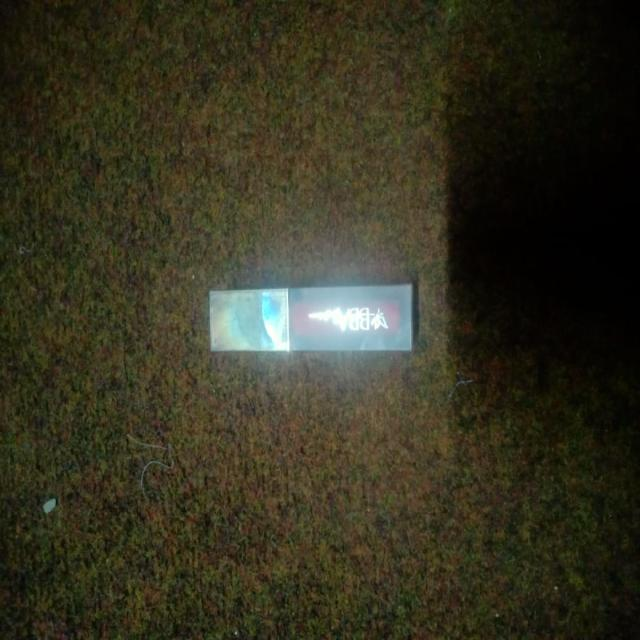lip stick: (194, 253, 430, 382)
